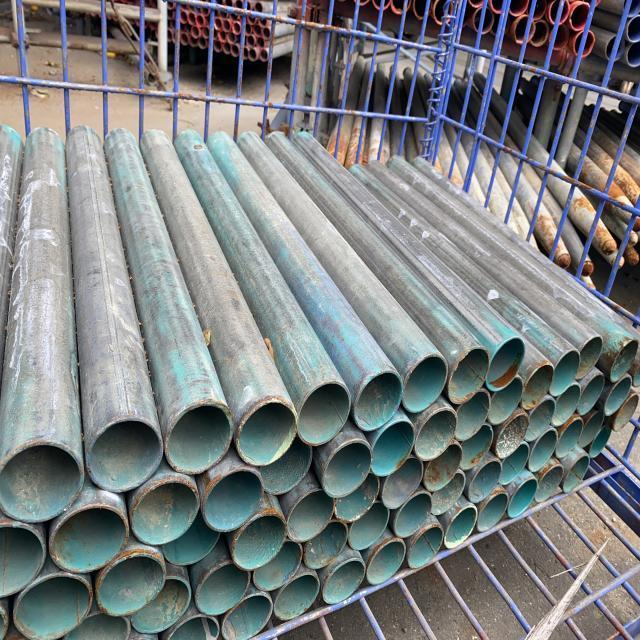pipe: (0, 434, 89, 529), (52, 496, 132, 579), (88, 420, 164, 496), (162, 402, 234, 474), (15, 570, 89, 640), (96, 552, 169, 618), (132, 477, 203, 544), (296, 378, 358, 452), (237, 398, 298, 473), (204, 464, 265, 538), (0, 514, 46, 603), (350, 368, 406, 436), (126, 576, 190, 634), (258, 434, 314, 498), (400, 353, 450, 421), (233, 518, 292, 573), (193, 563, 249, 617), (161, 514, 218, 565), (373, 456, 420, 516), (320, 441, 369, 498), (248, 539, 299, 593), (272, 573, 318, 628), (447, 346, 487, 408), (366, 534, 408, 592), (322, 556, 364, 612), (220, 595, 272, 640), (370, 424, 413, 477), (288, 494, 335, 542), (488, 335, 527, 391), (415, 411, 457, 462), (332, 479, 382, 521), (424, 444, 466, 494), (68, 608, 132, 640), (490, 374, 526, 430), (490, 412, 530, 460), (298, 529, 342, 572), (344, 506, 386, 551), (547, 386, 583, 436), (406, 524, 442, 574), (430, 470, 468, 517), (444, 505, 479, 555), (545, 350, 579, 400), (498, 442, 533, 490), (454, 394, 488, 442), (392, 498, 430, 540), (560, 416, 590, 468), (477, 492, 509, 540), (609, 338, 639, 386), (460, 426, 494, 468), (528, 432, 558, 479), (576, 373, 608, 417), (466, 463, 497, 507), (575, 334, 602, 384), (533, 468, 566, 508), (524, 367, 553, 412), (610, 389, 640, 432), (524, 406, 554, 448), (167, 616, 218, 640), (604, 376, 630, 418), (506, 482, 534, 520), (564, 458, 592, 496), (578, 409, 604, 446), (590, 430, 609, 464)
